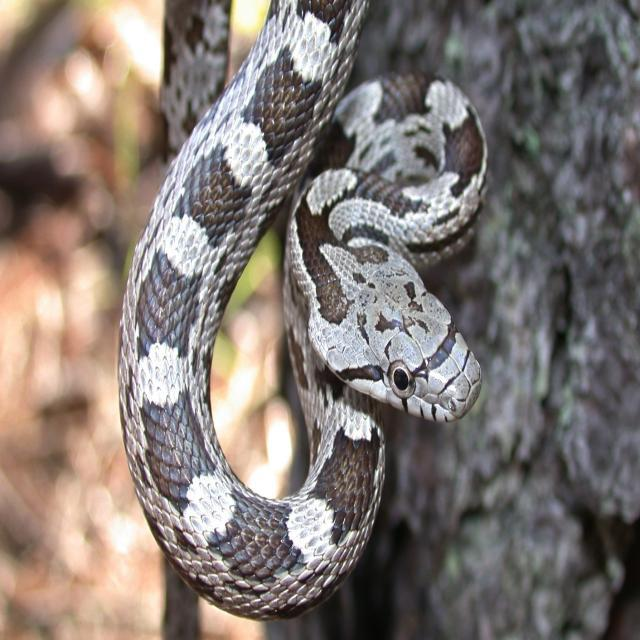Snake: (62, 0, 504, 640)
